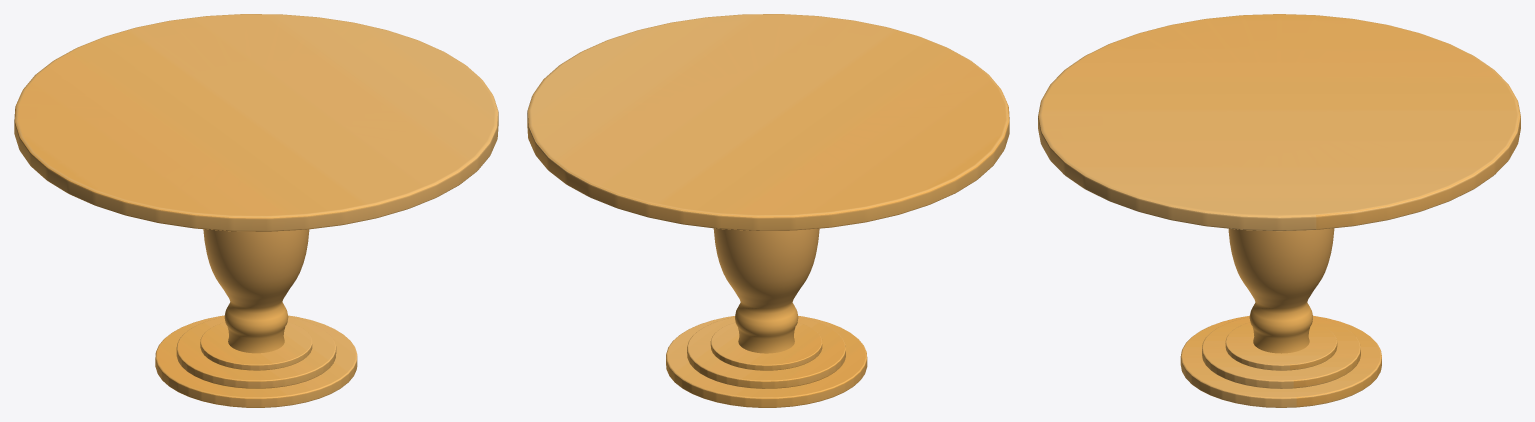
File: table.fbx
The picture shows the model from 3 angles, left to right: view 1: azimuth 30°, elevation 25°; view 2: azimuth 150°, elevation 25°; view 3: azimuth 270°, elevation 25°; orthographic projection.
Visible parts, largest first — view 1: polySurface5; view 2: polySurface5; view 3: polySurface5.
Part boxes in pixels (x1,y1,x2,y2): polySurface5: [14, 14, 498, 407]; polySurface5: [527, 14, 1009, 407]; polySurface5: [1038, 14, 1520, 407].
Size of the model in its own units: 4.73 by 2.71 by 4.73.
Materials: 1 (1 with a texture image).
